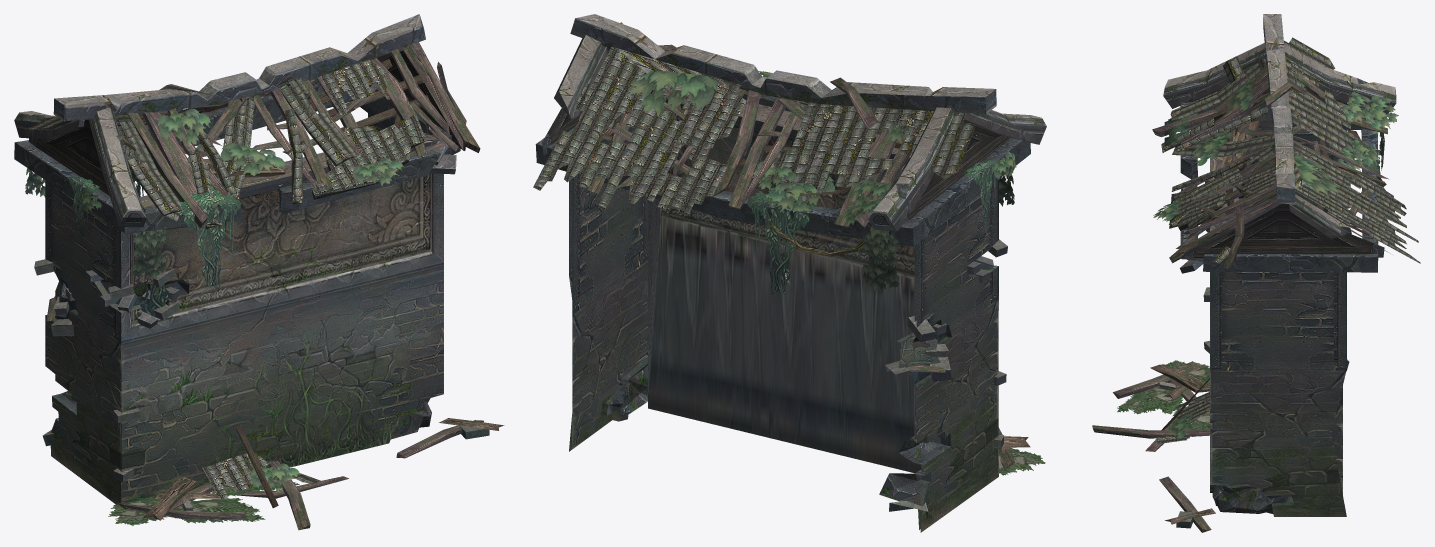
The model's file is Ruins_2A.FBX.
3 views of the same model, side by side, from view 1: azimuth 30°, elevation 25°; view 2: azimuth 150°, elevation 25°; view 3: azimuth 270°, elevation 25° (orthographic). The views are drawn at different scales.
Parts seen in each view (by area): view 1: Ruins_2; view 2: Ruins_2; view 3: Ruins_2.
Part boxes in pixels (x1,y1,x2,y2): Ruins_2: (14, 14, 504, 530); Ruins_2: (533, 14, 1046, 532); Ruins_2: (1092, 14, 1420, 532).
Size of the model in its own units: 469 by 450 by 375.
